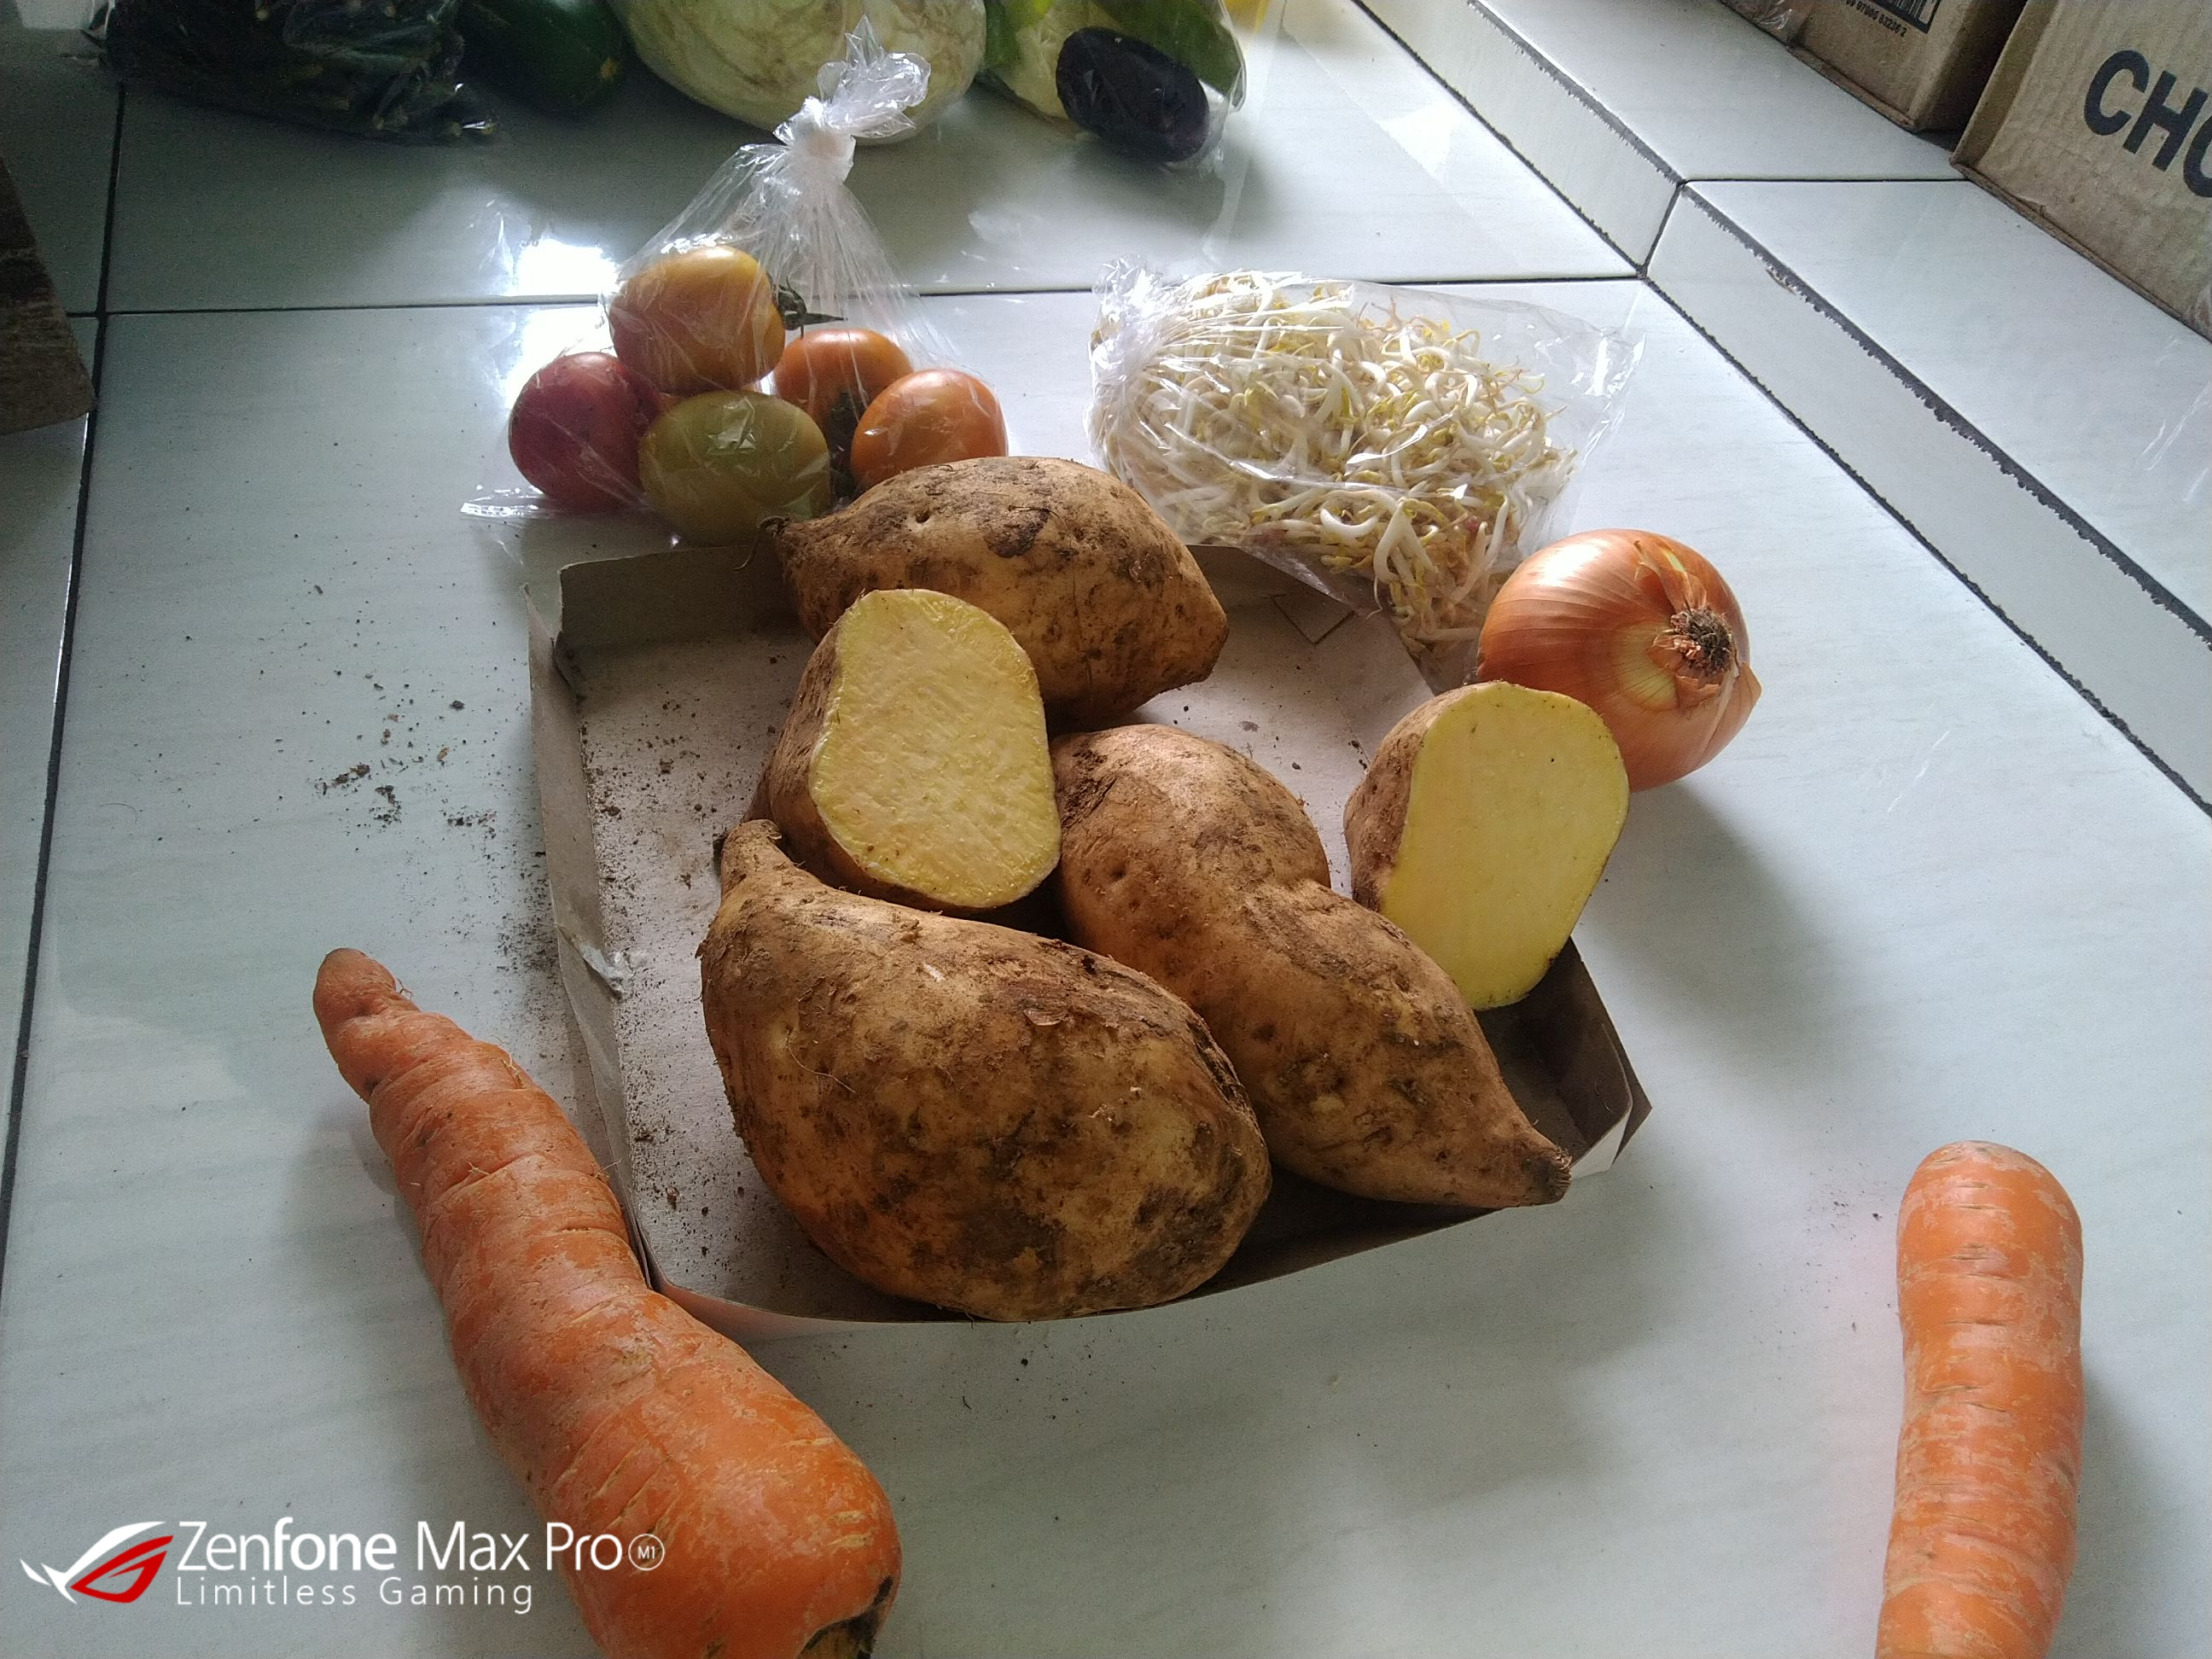ubi kuning: (681, 817, 1278, 1345), (1043, 718, 1585, 1227), (733, 450, 1247, 702), (742, 582, 1075, 913), (1339, 678, 1634, 1021)
